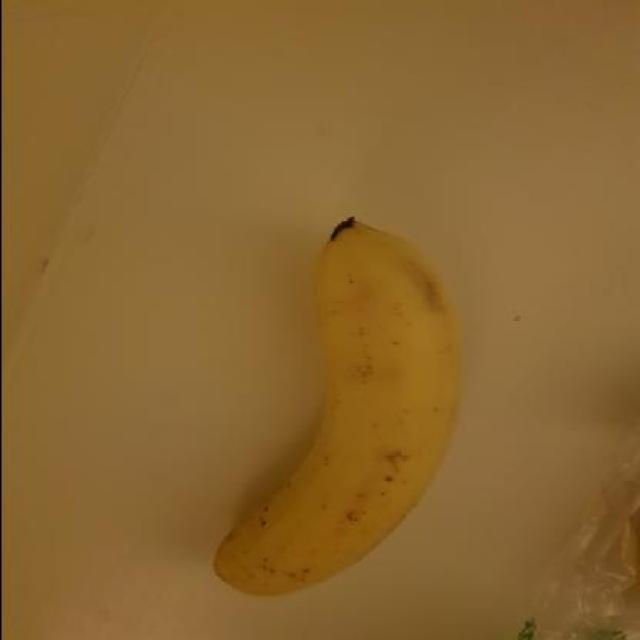Banana: (204, 216, 463, 607)
